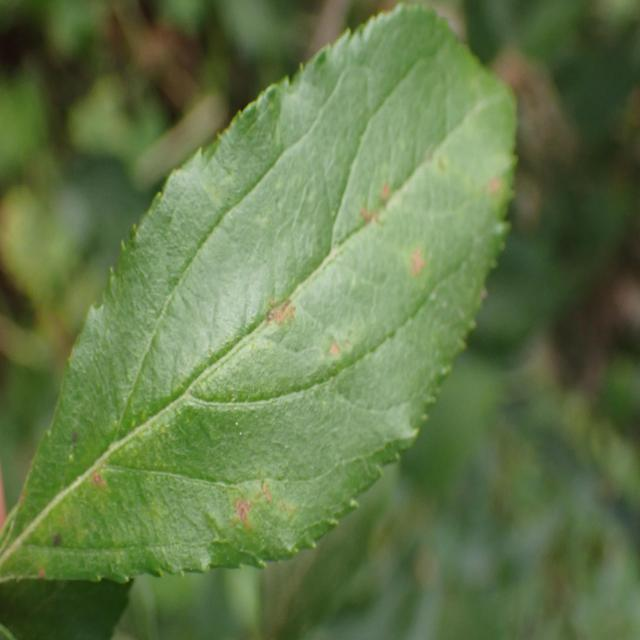scab: (8, 93, 532, 590)
